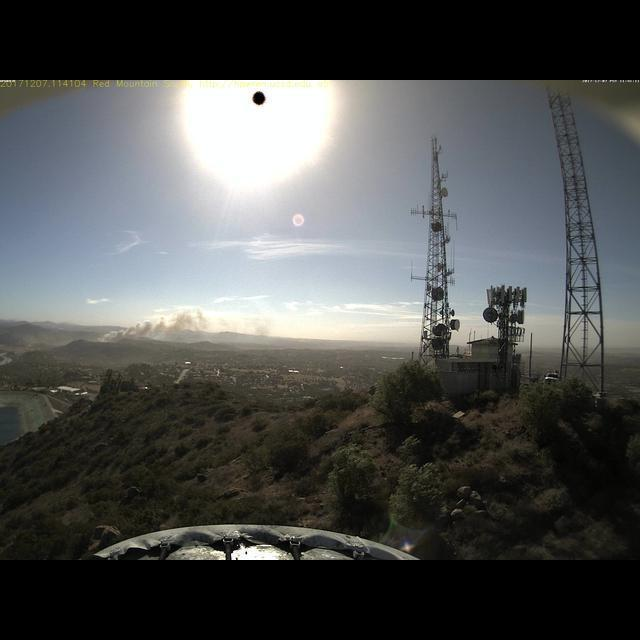Smoke: (93, 300, 267, 345)
